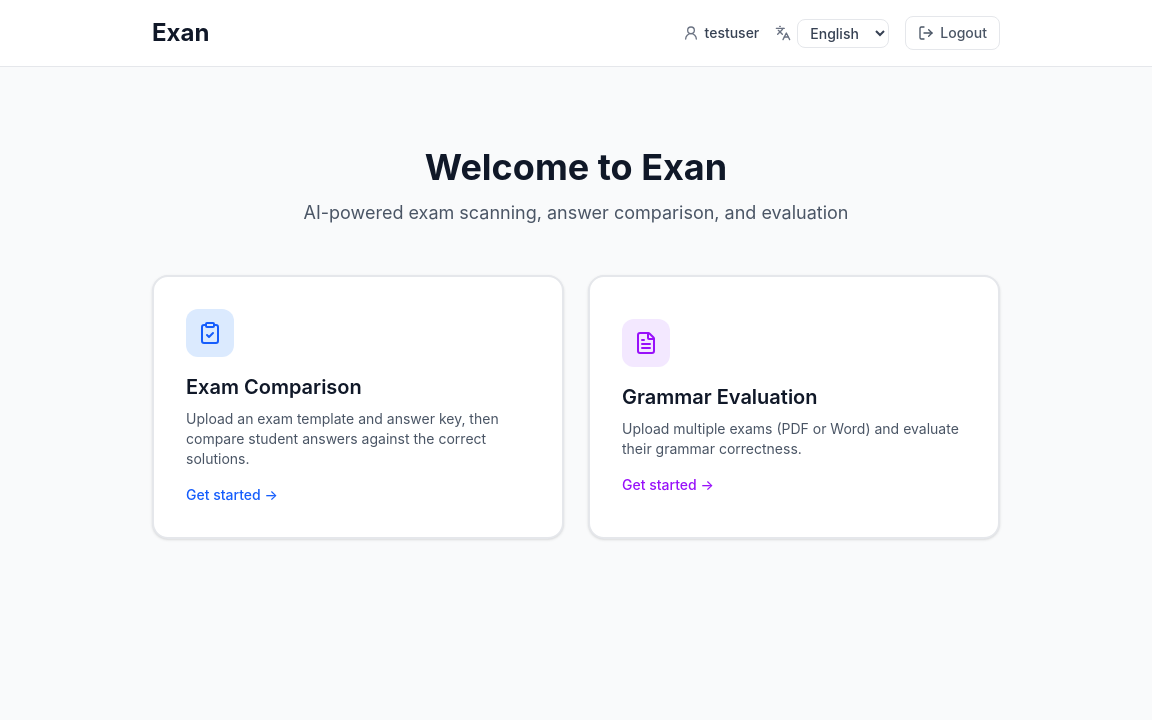
Test case: App › when authenticated › navigates to exam comparison when clicked
The image size is (1152, 720).
Click the heading "Exam Comparison" at (274, 387), box [186,375,362,399]
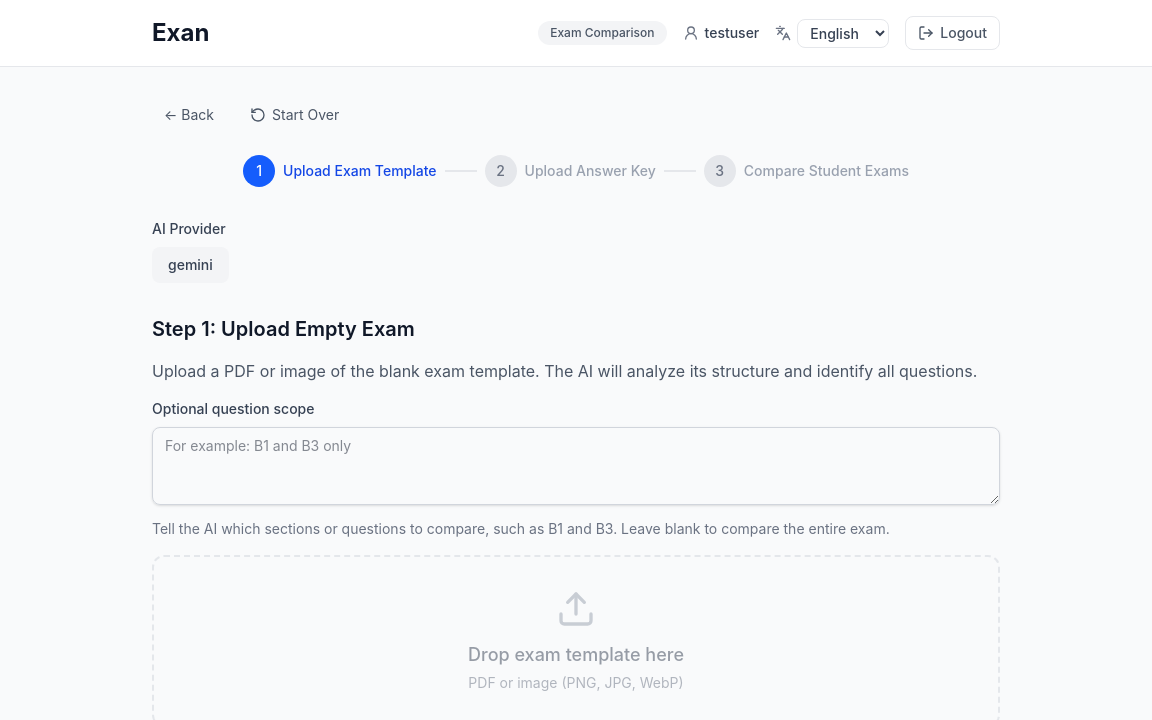
Now the text "Upload Exam Template" is shown, box [283,161,436,181]
Now the heading "Step 1: Upload Empty Exam" is shown, box [152,317,415,341]
